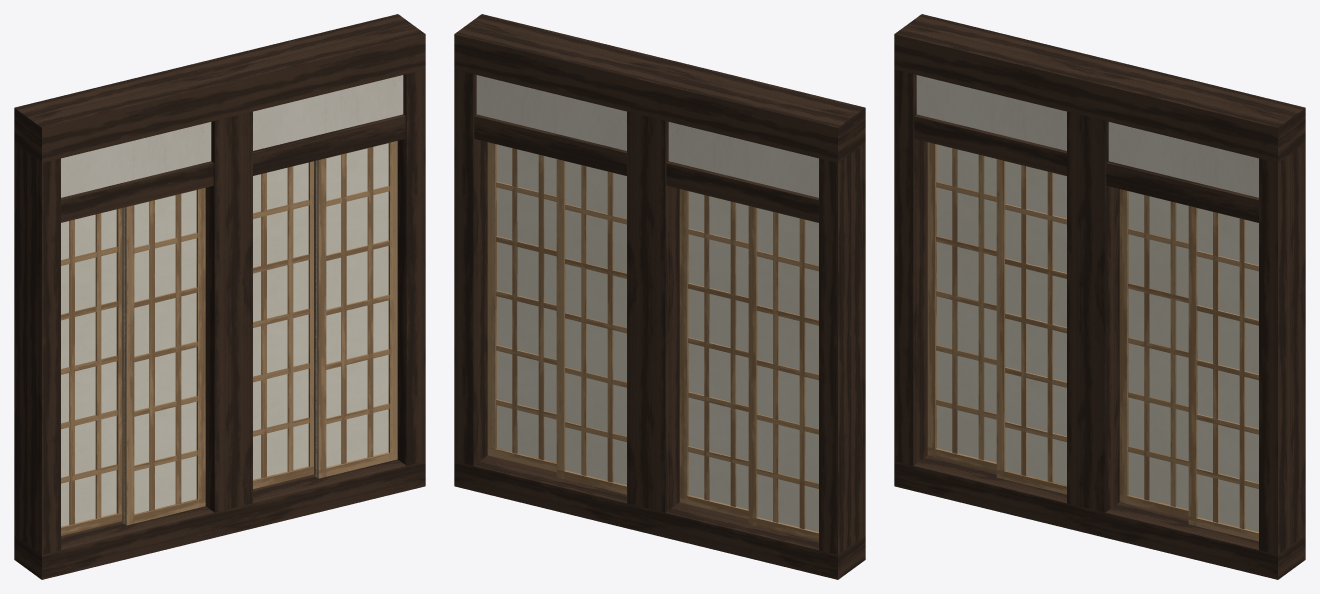
File: HO_Wall_Door_Shoji_8.fbx
The picture shows the model from 3 angles, left to right: view 1: azimuth 30°, elevation 25°; view 2: azimuth 150°, elevation 25°; view 3: azimuth 330°, elevation 25°; orthographic projection.
Parts seen in each view (by area): view 1: HO_Wall_Door_Shoji_8__Timber_Dark, HO_Wall_Door_Shoji_8_Door4__Shoji_Paper, HO_Wall_Door_Shoji_8_Door2__Shoji_Paper, HO_Wall_Door_Shoji_8_Door2__Timber_Light, HO_Wall_Door_Shoji_8_Door4__Timber_Light, HO_Wall_Door_Shoji_8_Door3__Shoji_Paper, HO_Wall_Door_Shoji_8_Door1__Shoji_Paper, HO_Wall_Door_Shoji_8__Plaster_White, HO_Wall_Door_Shoji_8_Door1__Timber_Light, HO_Wall_Door_Shoji_8_Door3__Timber_Light; view 2: HO_Wall_Door_Shoji_8__Timber_Dark, HO_Wall_Door_Shoji_8_Door3__Shoji_Paper, HO_Wall_Door_Shoji_8_Door1__Shoji_Paper, HO_Wall_Door_Shoji_8_Door2__Shoji_Paper, HO_Wall_Door_Shoji_8_Door4__Shoji_Paper, HO_Wall_Door_Shoji_8__Plaster_White, HO_Wall_Door_Shoji_8_Door3__Timber_Light, HO_Wall_Door_Shoji_8_Door1__Timber_Light, HO_Wall_Door_Shoji_8_Door4__Timber_Light, HO_Wall_Door_Shoji_8_Door2__Timber_Light; view 3: HO_Wall_Door_Shoji_8__Timber_Dark, HO_Wall_Door_Shoji_8_Door2__Shoji_Paper, HO_Wall_Door_Shoji_8_Door4__Shoji_Paper, HO_Wall_Door_Shoji_8_Door3__Shoji_Paper, HO_Wall_Door_Shoji_8_Door1__Shoji_Paper, HO_Wall_Door_Shoji_8__Plaster_White, HO_Wall_Door_Shoji_8_Door2__Timber_Light, HO_Wall_Door_Shoji_8_Door4__Timber_Light, HO_Wall_Door_Shoji_8_Door1__Timber_Light, HO_Wall_Door_Shoji_8_Door3__Timber_Light.
Part boxes in pixels (x1=…): HO_Wall_Door_Shoji_8__Timber_Dark: x1=14, y1=14, x2=425, y2=579; HO_Wall_Door_Shoji_8_Door4__Shoji_Paper: x1=315, y1=143, x2=388, y2=477; HO_Wall_Door_Shoji_8_Door2__Shoji_Paper: x1=123, y1=190, x2=196, y2=523; HO_Wall_Door_Shoji_8_Door2__Timber_Light: x1=122, y1=187, x2=205, y2=525; HO_Wall_Door_Shoji_8_Door4__Timber_Light: x1=314, y1=141, x2=397, y2=478; HO_Wall_Door_Shoji_8_Door3__Shoji_Paper: x1=253, y1=162, x2=308, y2=479; HO_Wall_Door_Shoji_8_Door1__Shoji_Paper: x1=61, y1=209, x2=116, y2=526; HO_Wall_Door_Shoji_8__Plaster_White: x1=61, y1=75, x2=403, y2=197; HO_Wall_Door_Shoji_8_Door1__Timber_Light: x1=61, y1=208, x2=122, y2=535; HO_Wall_Door_Shoji_8_Door3__Timber_Light: x1=253, y1=161, x2=313, y2=489; HO_Wall_Door_Shoji_8__Timber_Dark: x1=454, y1=14, x2=865, y2=579; HO_Wall_Door_Shoji_8_Door3__Shoji_Paper: x1=565, y1=161, x2=626, y2=485; HO_Wall_Door_Shoji_8_Door1__Shoji_Paper: x1=757, y1=208, x2=818, y2=531; HO_Wall_Door_Shoji_8_Door2__Shoji_Paper: x1=688, y1=191, x2=748, y2=509; HO_Wall_Door_Shoji_8_Door4__Shoji_Paper: x1=497, y1=144, x2=556, y2=462; HO_Wall_Door_Shoji_8__Plaster_White: x1=476, y1=75, x2=818, y2=197; HO_Wall_Door_Shoji_8_Door3__Timber_Light: x1=556, y1=159, x2=626, y2=494; HO_Wall_Door_Shoji_8_Door1__Timber_Light: x1=748, y1=206, x2=818, y2=541; HO_Wall_Door_Shoji_8_Door4__Timber_Light: x1=487, y1=142, x2=556, y2=471; HO_Wall_Door_Shoji_8_Door2__Timber_Light: x1=679, y1=189, x2=748, y2=518; HO_Wall_Door_Shoji_8__Timber_Dark: x1=894, y1=14, x2=1305, y2=579; HO_Wall_Door_Shoji_8_Door2__Shoji_Paper: x1=1005, y1=161, x2=1066, y2=485; HO_Wall_Door_Shoji_8_Door4__Shoji_Paper: x1=1197, y1=208, x2=1258, y2=531; HO_Wall_Door_Shoji_8_Door3__Shoji_Paper: x1=1128, y1=191, x2=1188, y2=509; HO_Wall_Door_Shoji_8_Door1__Shoji_Paper: x1=937, y1=144, x2=996, y2=462; HO_Wall_Door_Shoji_8__Plaster_White: x1=916, y1=75, x2=1258, y2=197; HO_Wall_Door_Shoji_8_Door2__Timber_Light: x1=996, y1=159, x2=1066, y2=494; HO_Wall_Door_Shoji_8_Door4__Timber_Light: x1=1188, y1=206, x2=1258, y2=541; HO_Wall_Door_Shoji_8_Door1__Timber_Light: x1=927, y1=142, x2=996, y2=471; HO_Wall_Door_Shoji_8_Door3__Timber_Light: x1=1119, y1=189, x2=1188, y2=518.
Size of the model in its own units: 8 by 9 by 1.
